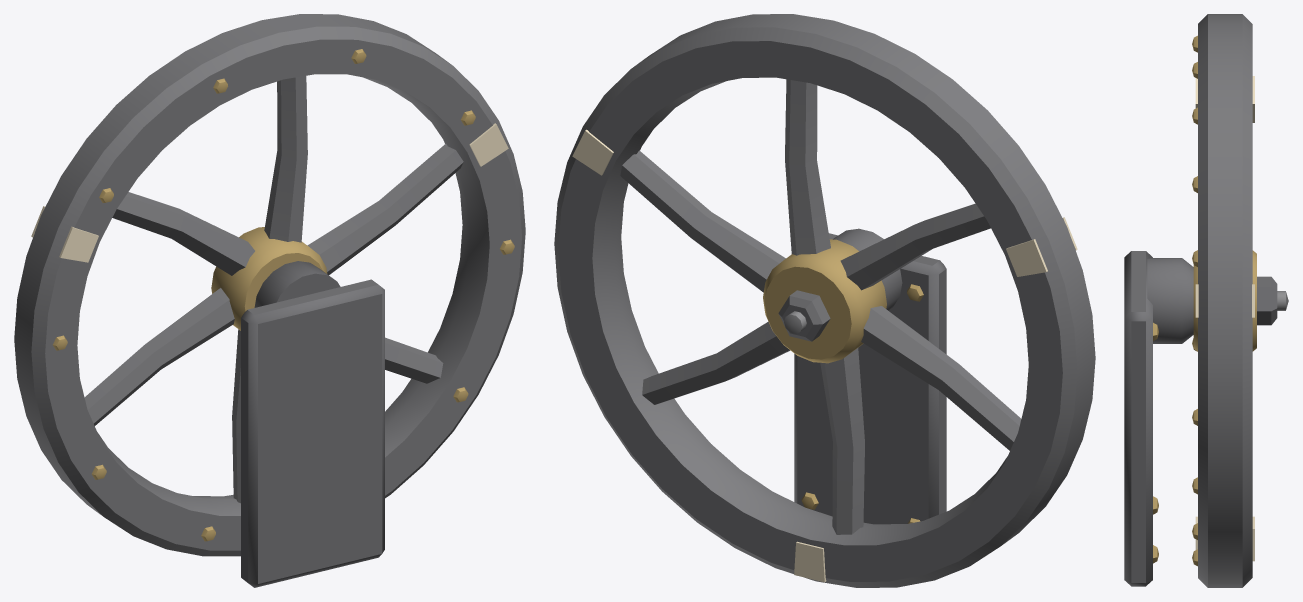
Rendered from Kit_Mod_Flywheel.glb.
3 renders of one model, left to right at view 1: azimuth 30°, elevation 25°; view 2: azimuth 150°, elevation 25°; view 3: azimuth 270°, elevation 25°, orthographic. The views are drawn at different scales.
Visible parts, largest first — view 1: Kit_Mod_Flywheel; view 2: Kit_Mod_Flywheel; view 3: Kit_Mod_Flywheel.
Boxes of the visible parts, bbox=[...] form: Kit_Mod_Flywheel: bbox=[14, 14, 525, 587]; Kit_Mod_Flywheel: bbox=[554, 14, 1095, 587]; Kit_Mod_Flywheel: bbox=[1124, 14, 1288, 587].
Bounding box in the file's own units: 0.398 × 0.398 × 0.114.
